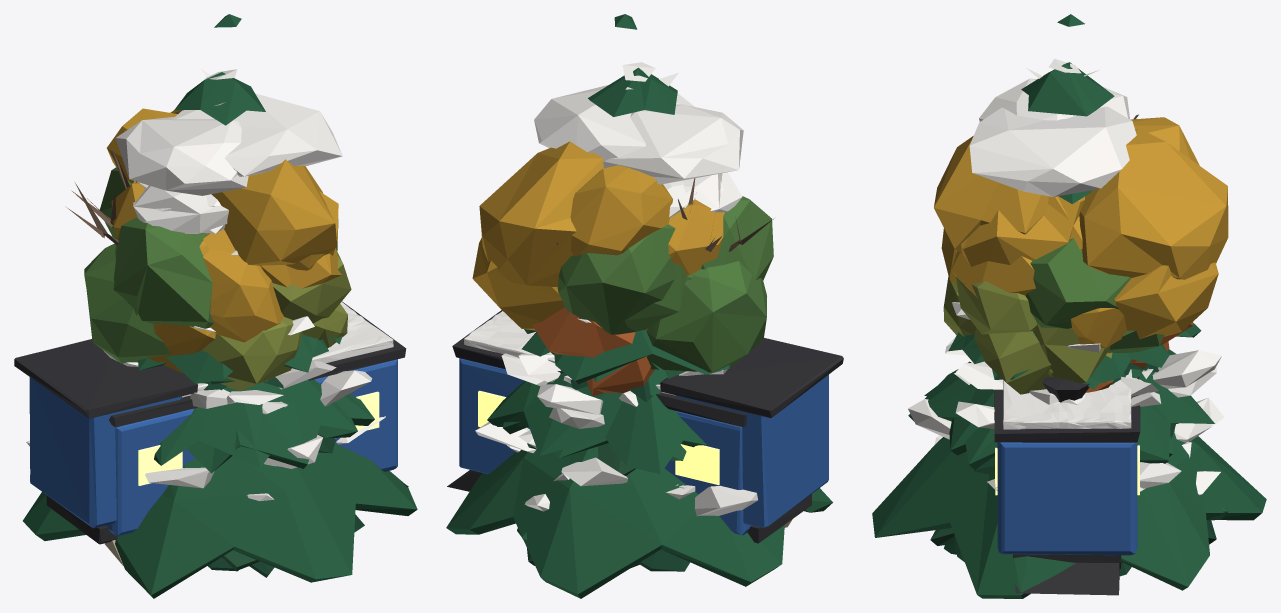
The model's file is protos_lo.glb.
3 renders of one model, left to right at view 1: azimuth 30°, elevation 25°; view 2: azimuth 150°, elevation 25°; view 3: azimuth 270°, elevation 25°, orthographic. The views are drawn at different scales.
Visible parts, largest first — view 1: fir3__Needles_0.102, decid4__Snow, decid0__LeafGreen, decid4__LeafGold, train_blue_engine__Train_blue, train_blue_engine__TrainBlack, train_blue_car__Train_blue, decid1__LeafOlive, decid2__LeafGold, fir1__Needles_0.102, fir3__Snow, decid0__Snow (+6 smaller); view 2: fir3__Needles_0.102, decid4__LeafGold, decid0__LeafGreen, decid4__Snow, train_blue_engine__Train_blue, train_blue_engine__TrainBlack, train_blue_car__Train_blue, fir3__Snow, decid3__LeafRust, train_blue_car__TrainBlack, decid0__Snow, train_blue_car__CoachGlow (+5 smaller); view 3: decid4__LeafGold, fir3__Needles_0.102, train_blue_car__Train_blue, decid4__Snow, decid1__LeafOlive, fir3__Snow, decid0__LeafGreen, train_blue_car__Snow, fir1__Needles_0.102, train_blue_car__TrainBlack, train_blue_engine__TrainBlack, fir1__Snow (+2 smaller).
Boxes of the visible parts, x1,y1,x2,y2 form: fir3__Needles_0.102: (23,14,417,598); decid4__Snow: (115,93,342,195); decid0__LeafGreen: (84,167,338,363); decid4__LeafGold: (107,108,341,288); train_blue_engine__Train_blue: (29,377,181,528); train_blue_engine__TrainBlack: (14,339,408,544); train_blue_car__Train_blue: (106,359,397,536); decid1__LeafOlive: (202,250,351,390); decid2__LeafGold: (147,229,283,372); fir1__Needles_0.102: (138,335,374,473); fir3__Snow: (26,68,385,488); decid0__Snow: (133,181,228,233); fir3__Needles_0.102: (446,14,832,598); decid4__LeafGold: (472,141,724,330); decid0__LeafGreen: (557,196,773,372); decid4__Snow: (534,85,743,184); train_blue_engine__Train_blue: (675,374,828,527); train_blue_engine__TrainBlack: (447,338,843,543); train_blue_car__Train_blue: (459,358,751,535); fir3__Snow: (475,62,757,515); decid3__LeafRust: (532,307,654,396); train_blue_car__TrainBlack: (452,310,746,475); decid0__Snow: (663,172,742,217); train_blue_car__CoachGlow: (478,390,719,485); decid4__LeafGold: (934,117,1228,339); fir3__Needles_0.102: (872,14,1266,598); train_blue_car__Train_blue: (997,442,1137,555); decid4__Snow: (969,78,1136,196); decid1__LeafOlive: (943,276,1112,394); fir3__Snow: (908,58,1224,490); decid0__LeafGreen: (1025,238,1164,352); train_blue_car__Snow: (1003,369,1132,429); fir1__Needles_0.102: (908,332,1228,520); train_blue_car__TrainBlack: (994,376,1140,568); train_blue_engine__TrainBlack: (1015,376,1121,595); fir1__Snow: (952,302,1216,491).
Bounding box in the file's own units: 6.81 × 10.02 × 6.77.
